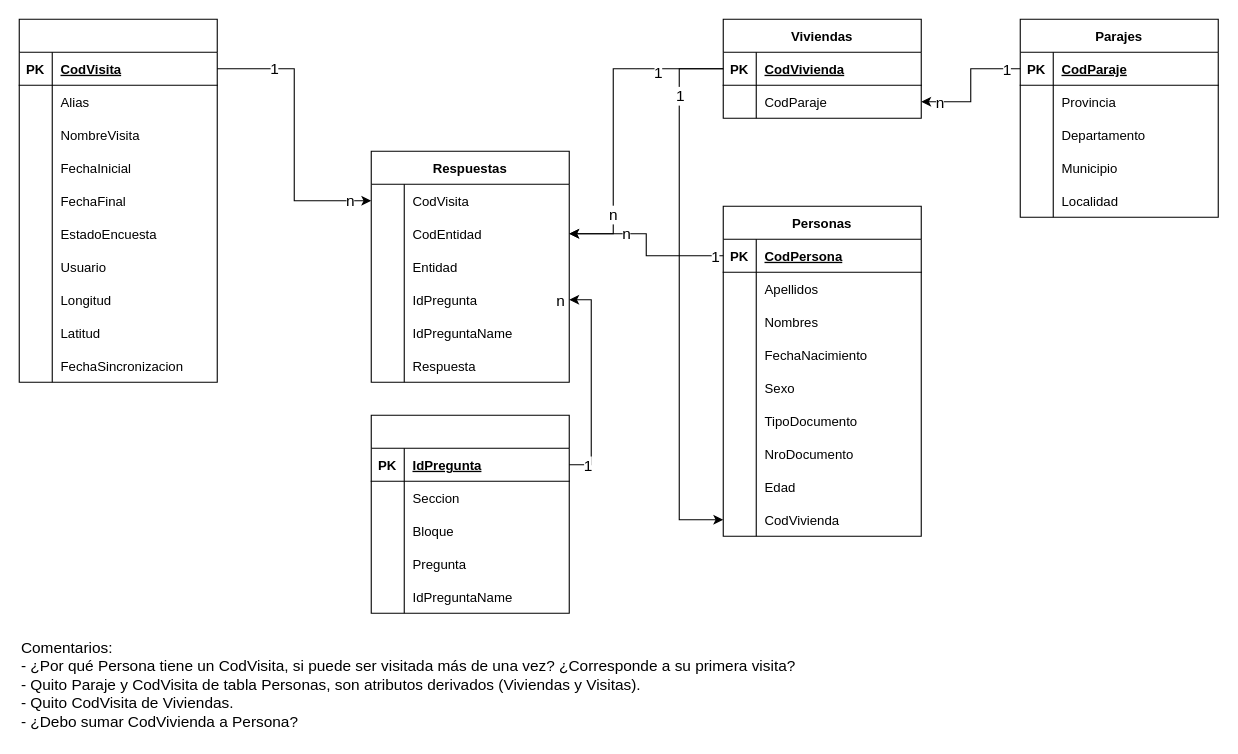
This 1238x754 diagram has some shape labels left out. Here are the shapes that lost their labels. From the top down, the box of each, then its label:
(18, 18, 217, 382): Visitas
(370, 414, 569, 613): Maestro Preguntas
